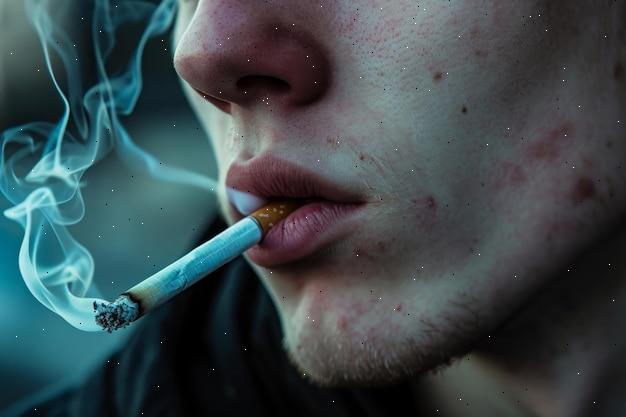cigarette: (93, 200, 301, 331)
